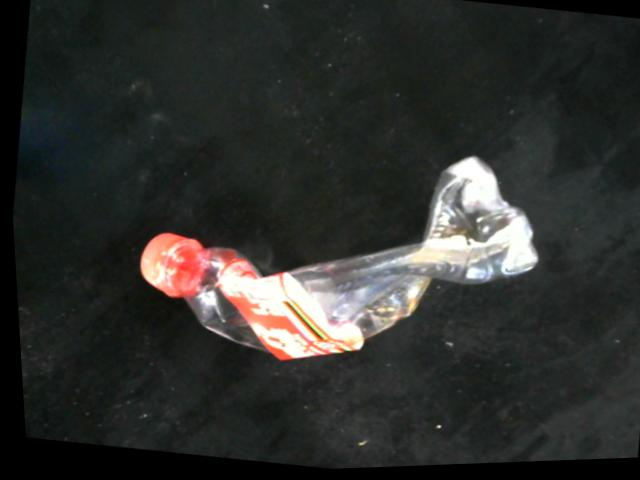bottle: (136, 155, 540, 366)
